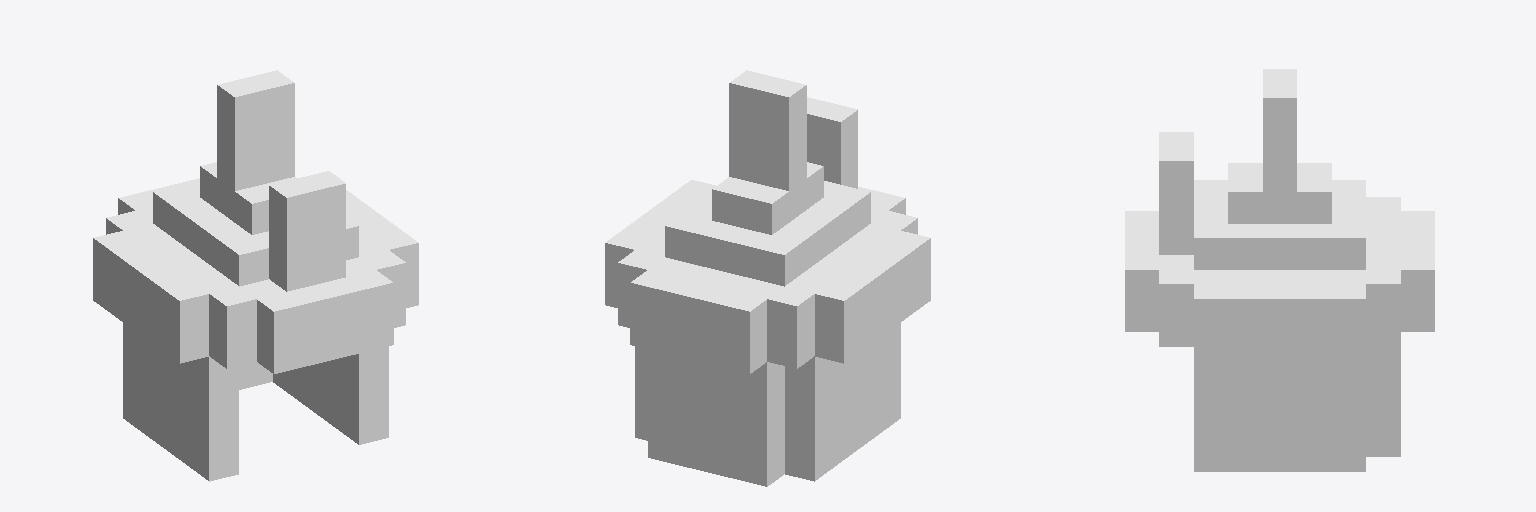
Rendered from char-156-helm_med_3c_sh.obj.
3 views of the same model, side by side, from view 1: azimuth 30°, elevation 25°; view 2: azimuth 150°, elevation 25°; view 3: azimuth 270°, elevation 25° (orthographic).
Parts seen in each view (by area): view 1: helm_med_3c_sh; view 2: helm_med_3c_sh; view 3: helm_med_3c_sh.
Part boxes in pixels (x1,y1,x2,y2): helm_med_3c_sh: (93,70,418,481); helm_med_3c_sh: (605,70,930,486); helm_med_3c_sh: (1125,69,1434,471).
Size of the model in its own units: 0.8 by 1.1 by 0.9.